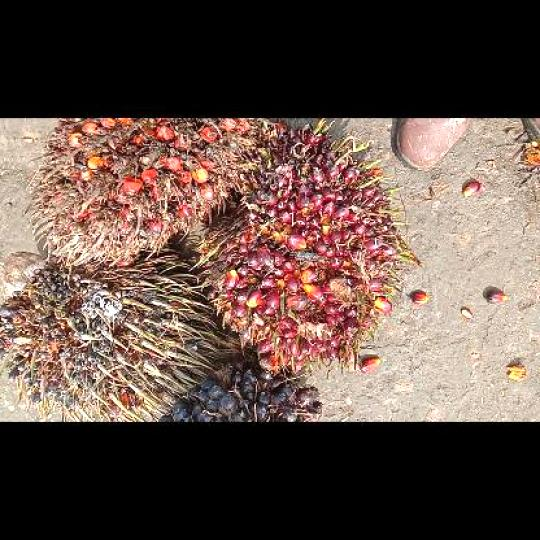masak: (202, 118, 413, 370)
terlalu masak: (29, 119, 272, 265)
